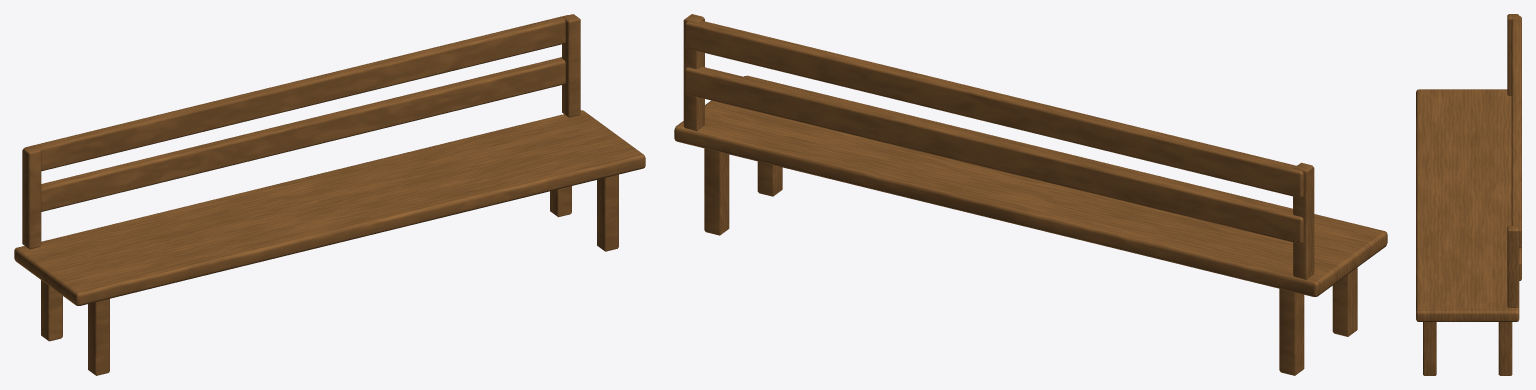
The model's file is Furn_Pew.fbx.
3 renders of one model, left to right at view 1: azimuth 30°, elevation 25°; view 2: azimuth 150°, elevation 25°; view 3: azimuth 270°, elevation 25°, orthographic. The views are drawn at different scales.
Visible parts, largest first — view 1: Furn_Pew_Mesh; view 2: Furn_Pew_Mesh; view 3: Furn_Pew_Mesh.
Part boxes in pixels (x1,y1,x2,y2): Furn_Pew_Mesh: (14, 14, 645, 375); Furn_Pew_Mesh: (674, 14, 1387, 375); Furn_Pew_Mesh: (1416, 14, 1521, 375).
Size of the model in its own units: 3 by 0.95 by 0.6.
Materials: 1 (1 with a texture image).
